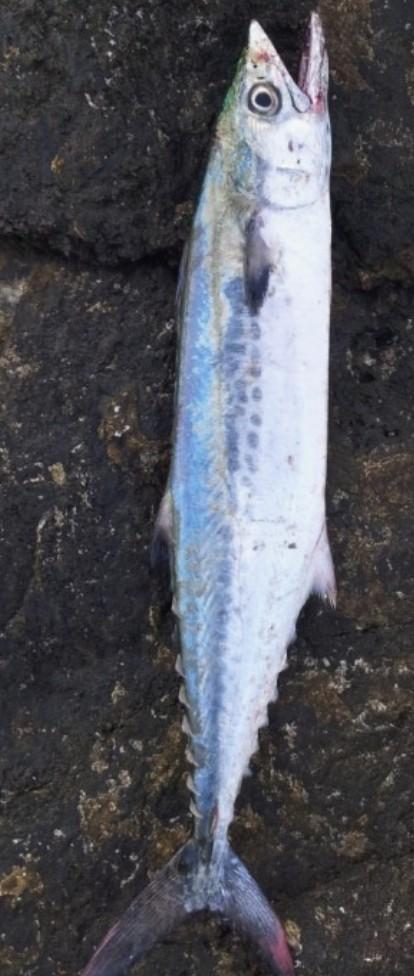fish: (83, 13, 335, 975)
